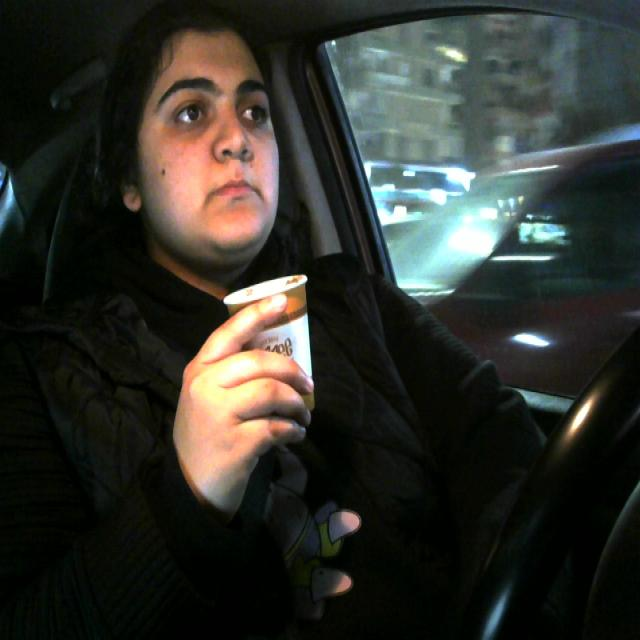drinking: (219, 258, 326, 440)
